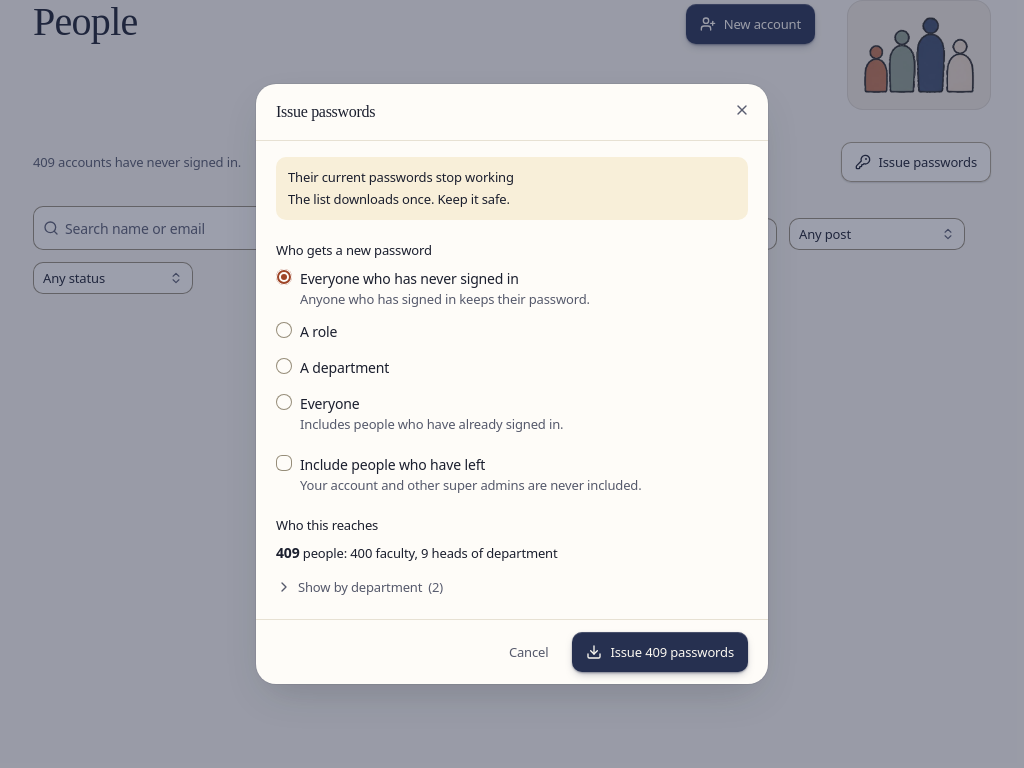
Issue passwords › waits for a role before it can be confirmed
Expected: the button "Issue 409 passwords" is shown, [572,632,748,672]
What coordinates should you click on to do the following:
click the radio button labelled "A role"
I would click on:
 (284, 330)
Its box is [276,322,292,338].
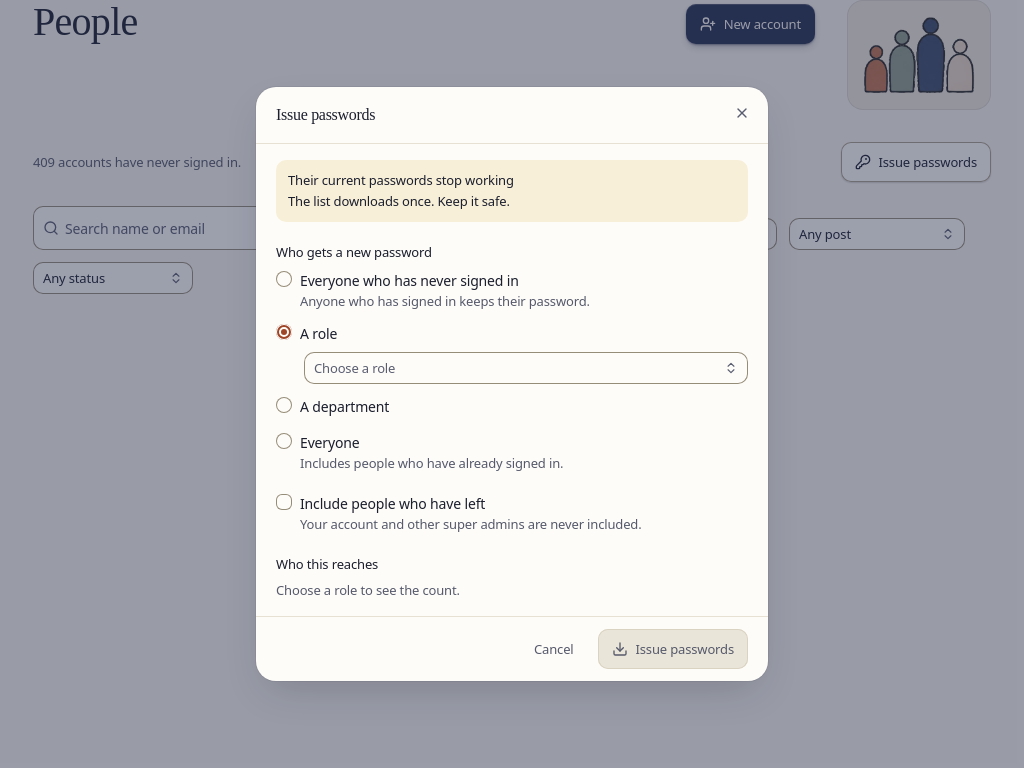
Expected: the button "Issue passwords" is disabled, [598,629,748,669]
Expected: the text "Choose a role to see the count." is shown, [276,581,460,599]
What coordinates should you click on to do the following:
click the button "Choose a role"
I would click on:
 (355, 368)
Its box is [304,352,748,384].
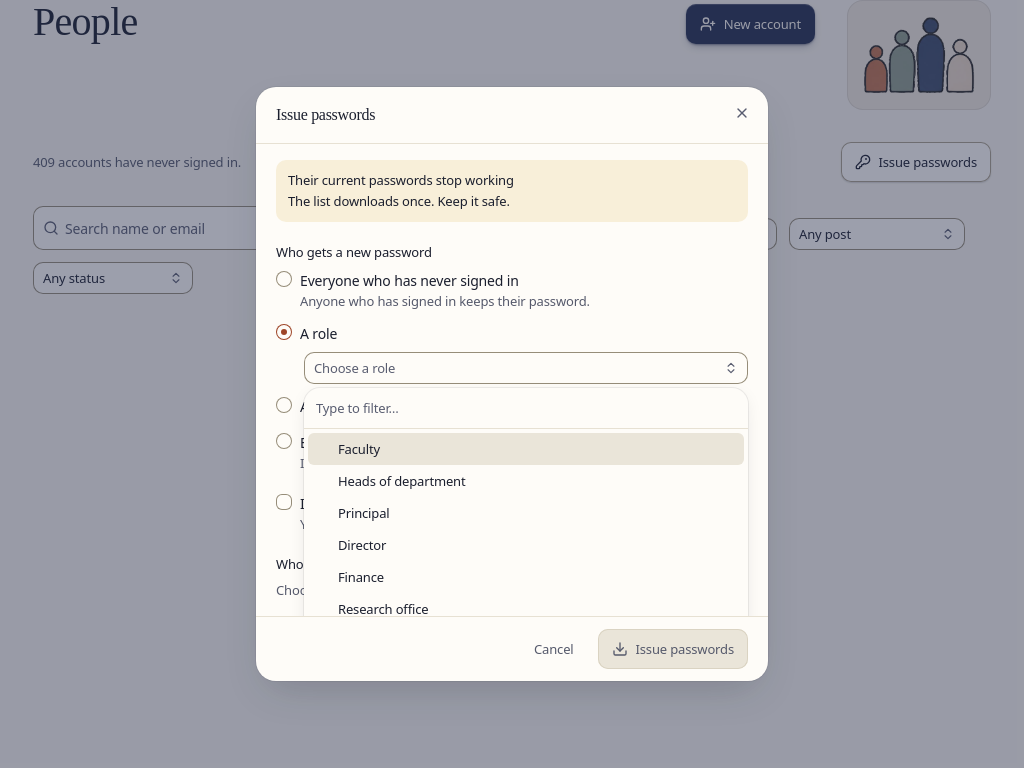
What coordinates should you click on to do the following:
click the option "Finance"
I would click on:
 (361, 577)
Its box is [338,568,384,586].
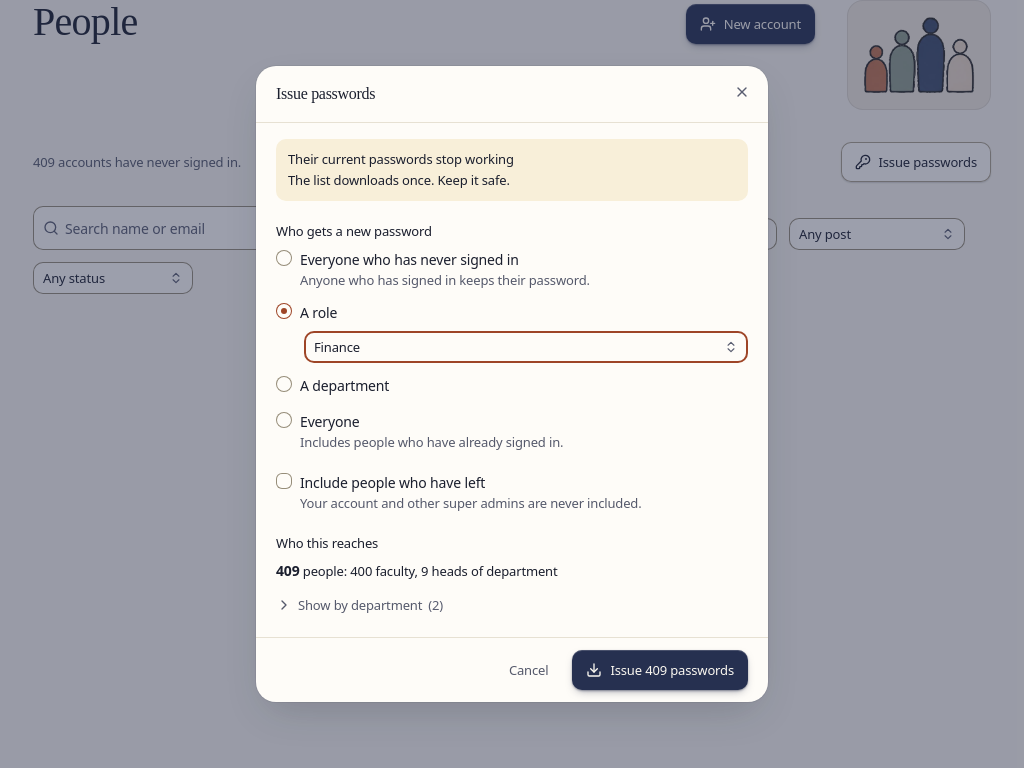
Expected: the button "Issue 409 passwords" is enabled, [572,650,748,690]
